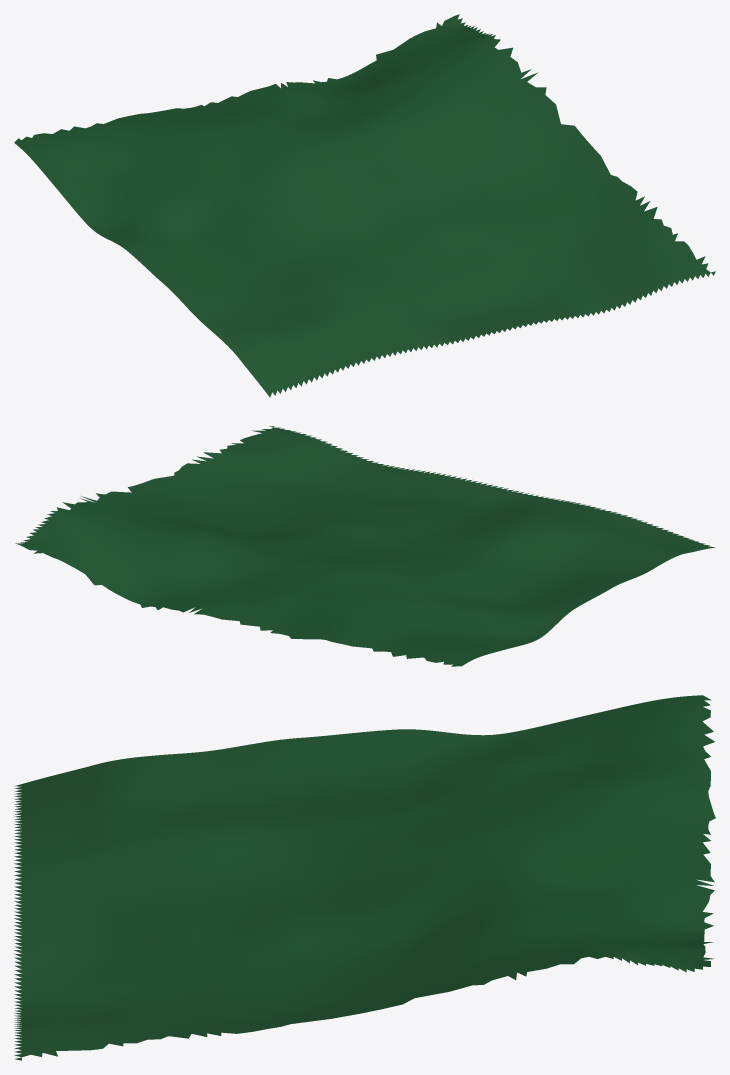
The model's file is payo_land_x2_y4.glb.
The picture shows the model from 3 angles, top to bottom: view 1: azimuth 30°, elevation 25°; view 2: azimuth 150°, elevation 25°; view 3: azimuth 270°, elevation 25°; orthographic projection. The views are drawn at different scales.
Visible parts, largest first — view 1: payo_land_x2_y4; view 2: payo_land_x2_y4; view 3: payo_land_x2_y4.
Boxes of the visible parts, x1,y1,x2,y2 form: payo_land_x2_y4: (14,14,715,397); payo_land_x2_y4: (15,426,715,666); payo_land_x2_y4: (14,695,715,1060).
Bounding box in the file's own units: 262 × 49.7 × 260.
